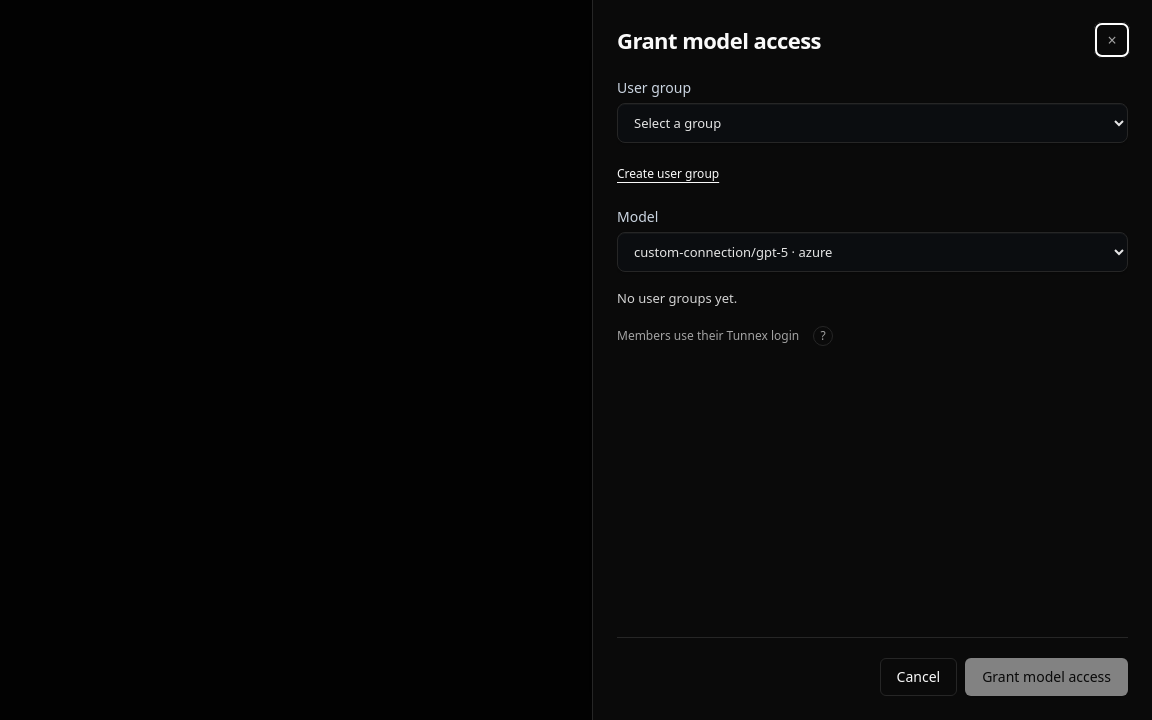
Test: AI user access › keeps a duplicate-name error in the dialog without granting access
This screenshot has width=1152, height=720.
Click the button "Create user group": x=668, y=174 [617, 159, 719, 189]
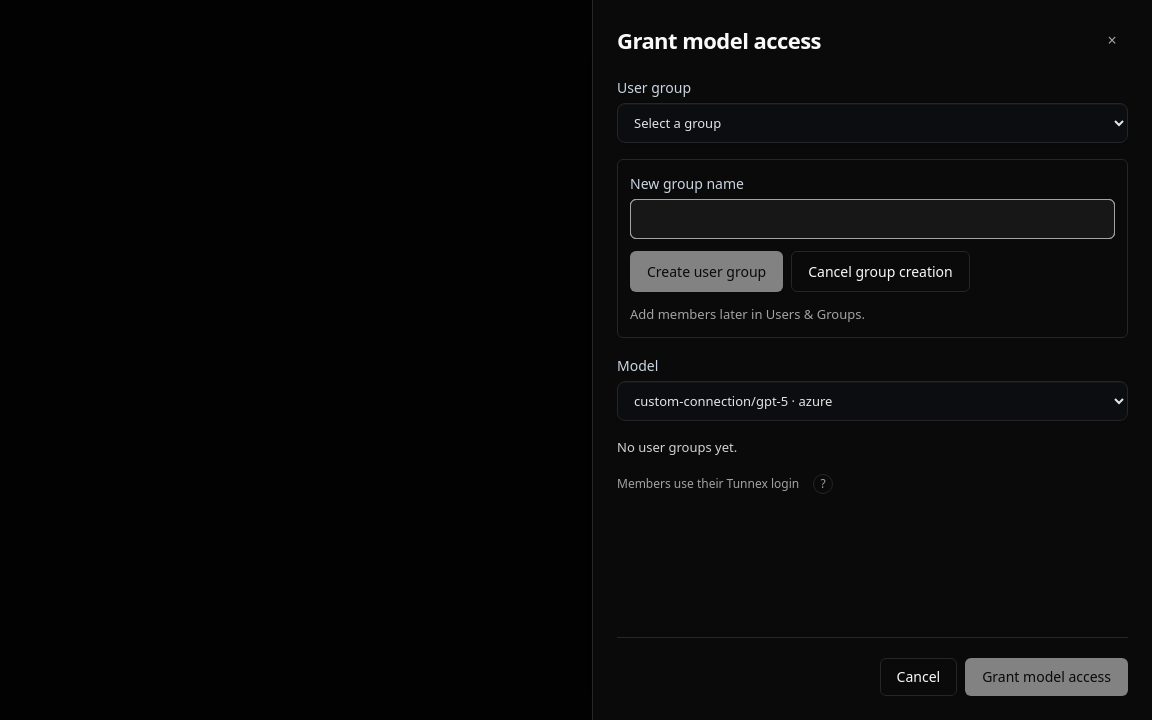
In the field labelled "New group name": x=872, y=219 [630, 199, 1115, 239], type " Research "
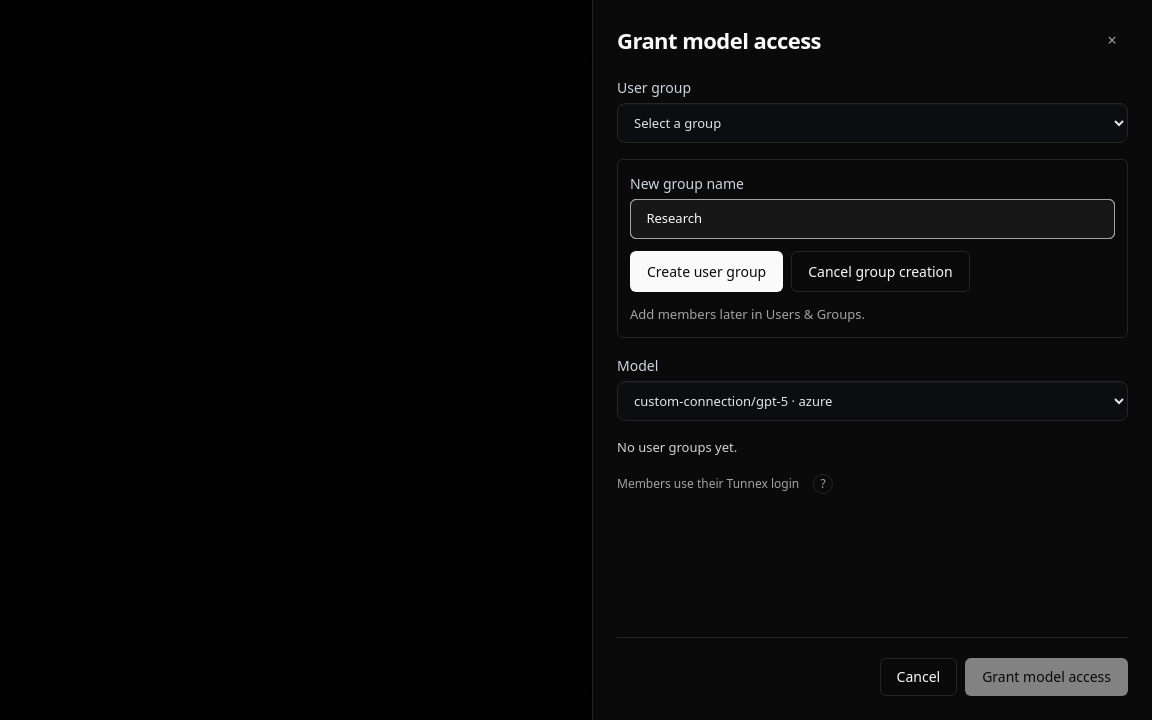
Click the button "Create user group": x=707, y=271 [630, 251, 783, 292]
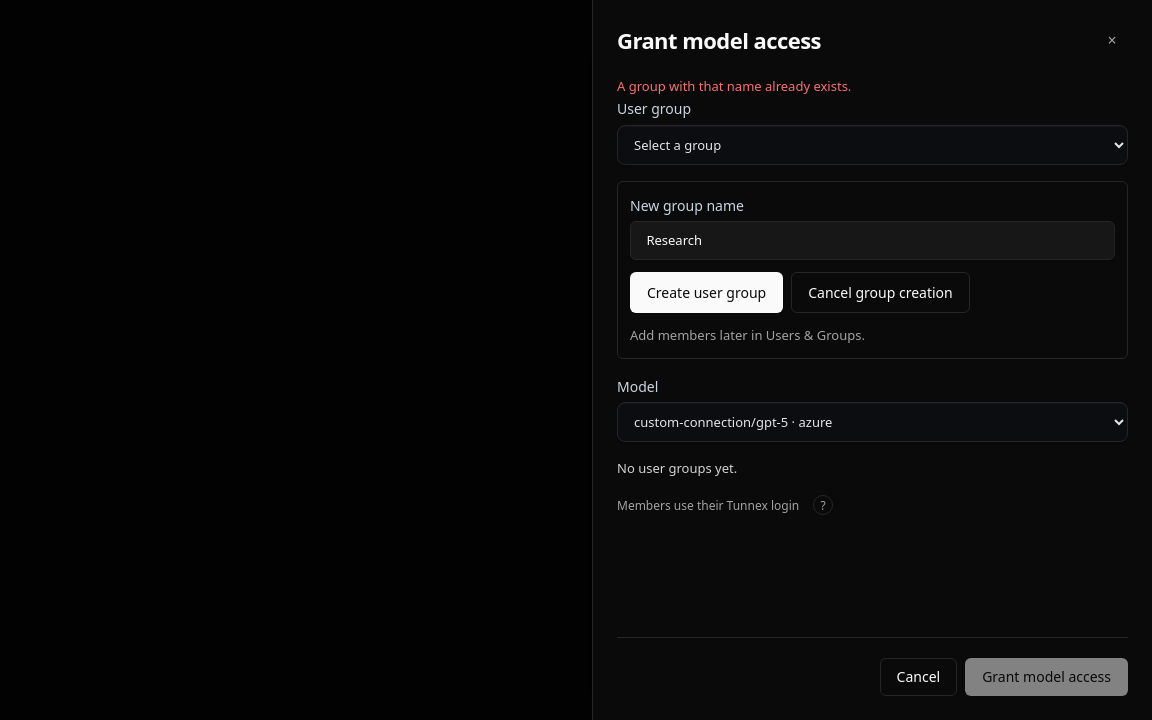
Result: the message reads "A group with that name already exists." at [617, 77, 851, 95]
